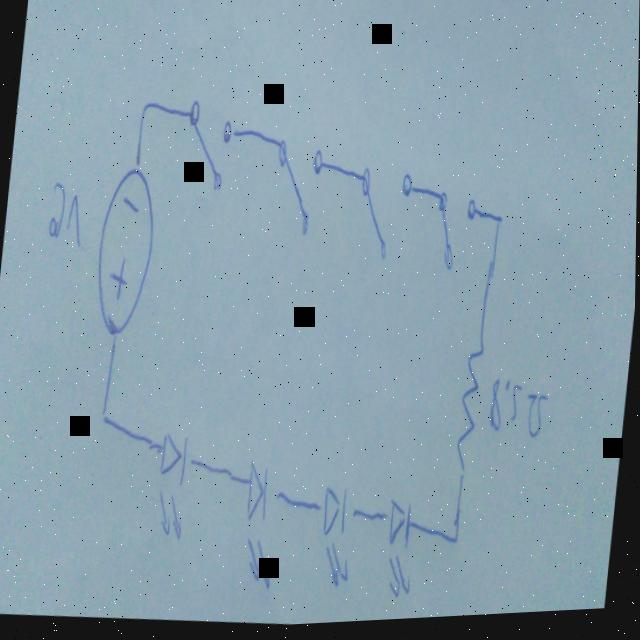diode: (236, 462, 286, 599), (313, 475, 359, 600), (150, 424, 194, 550), (381, 497, 421, 609)
junction: (94, 394, 116, 439), (489, 203, 508, 244), (136, 88, 154, 128), (447, 522, 464, 556)
resistor: (452, 336, 488, 483)
source: (89, 162, 161, 339)
switch: (352, 162, 416, 269), (268, 128, 328, 241), (180, 92, 238, 204), (429, 187, 482, 280)
text: (485, 381, 551, 453), (44, 175, 90, 252)
